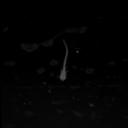fish: (57, 38, 69, 81)
